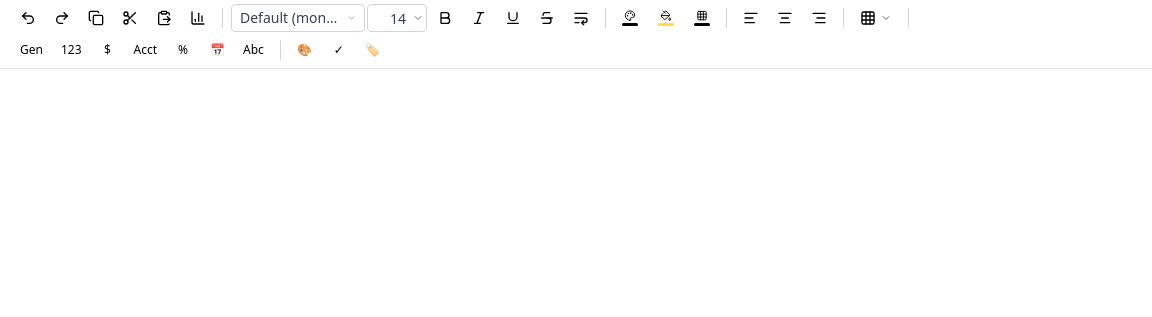
it: Toolbar › offers the Excel standard font sizes in the dropdown
Click the button named "Font size options": click(418, 18) [410,5,426,31]
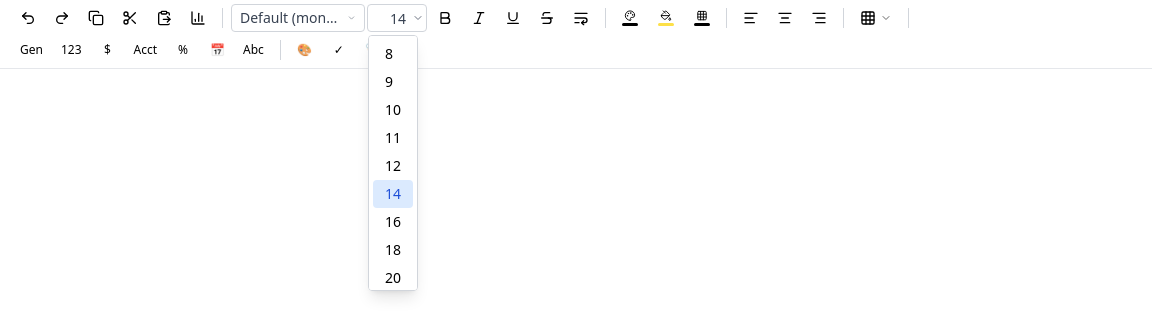
Expected: the button "8" is shown, [373,40,413,68]
